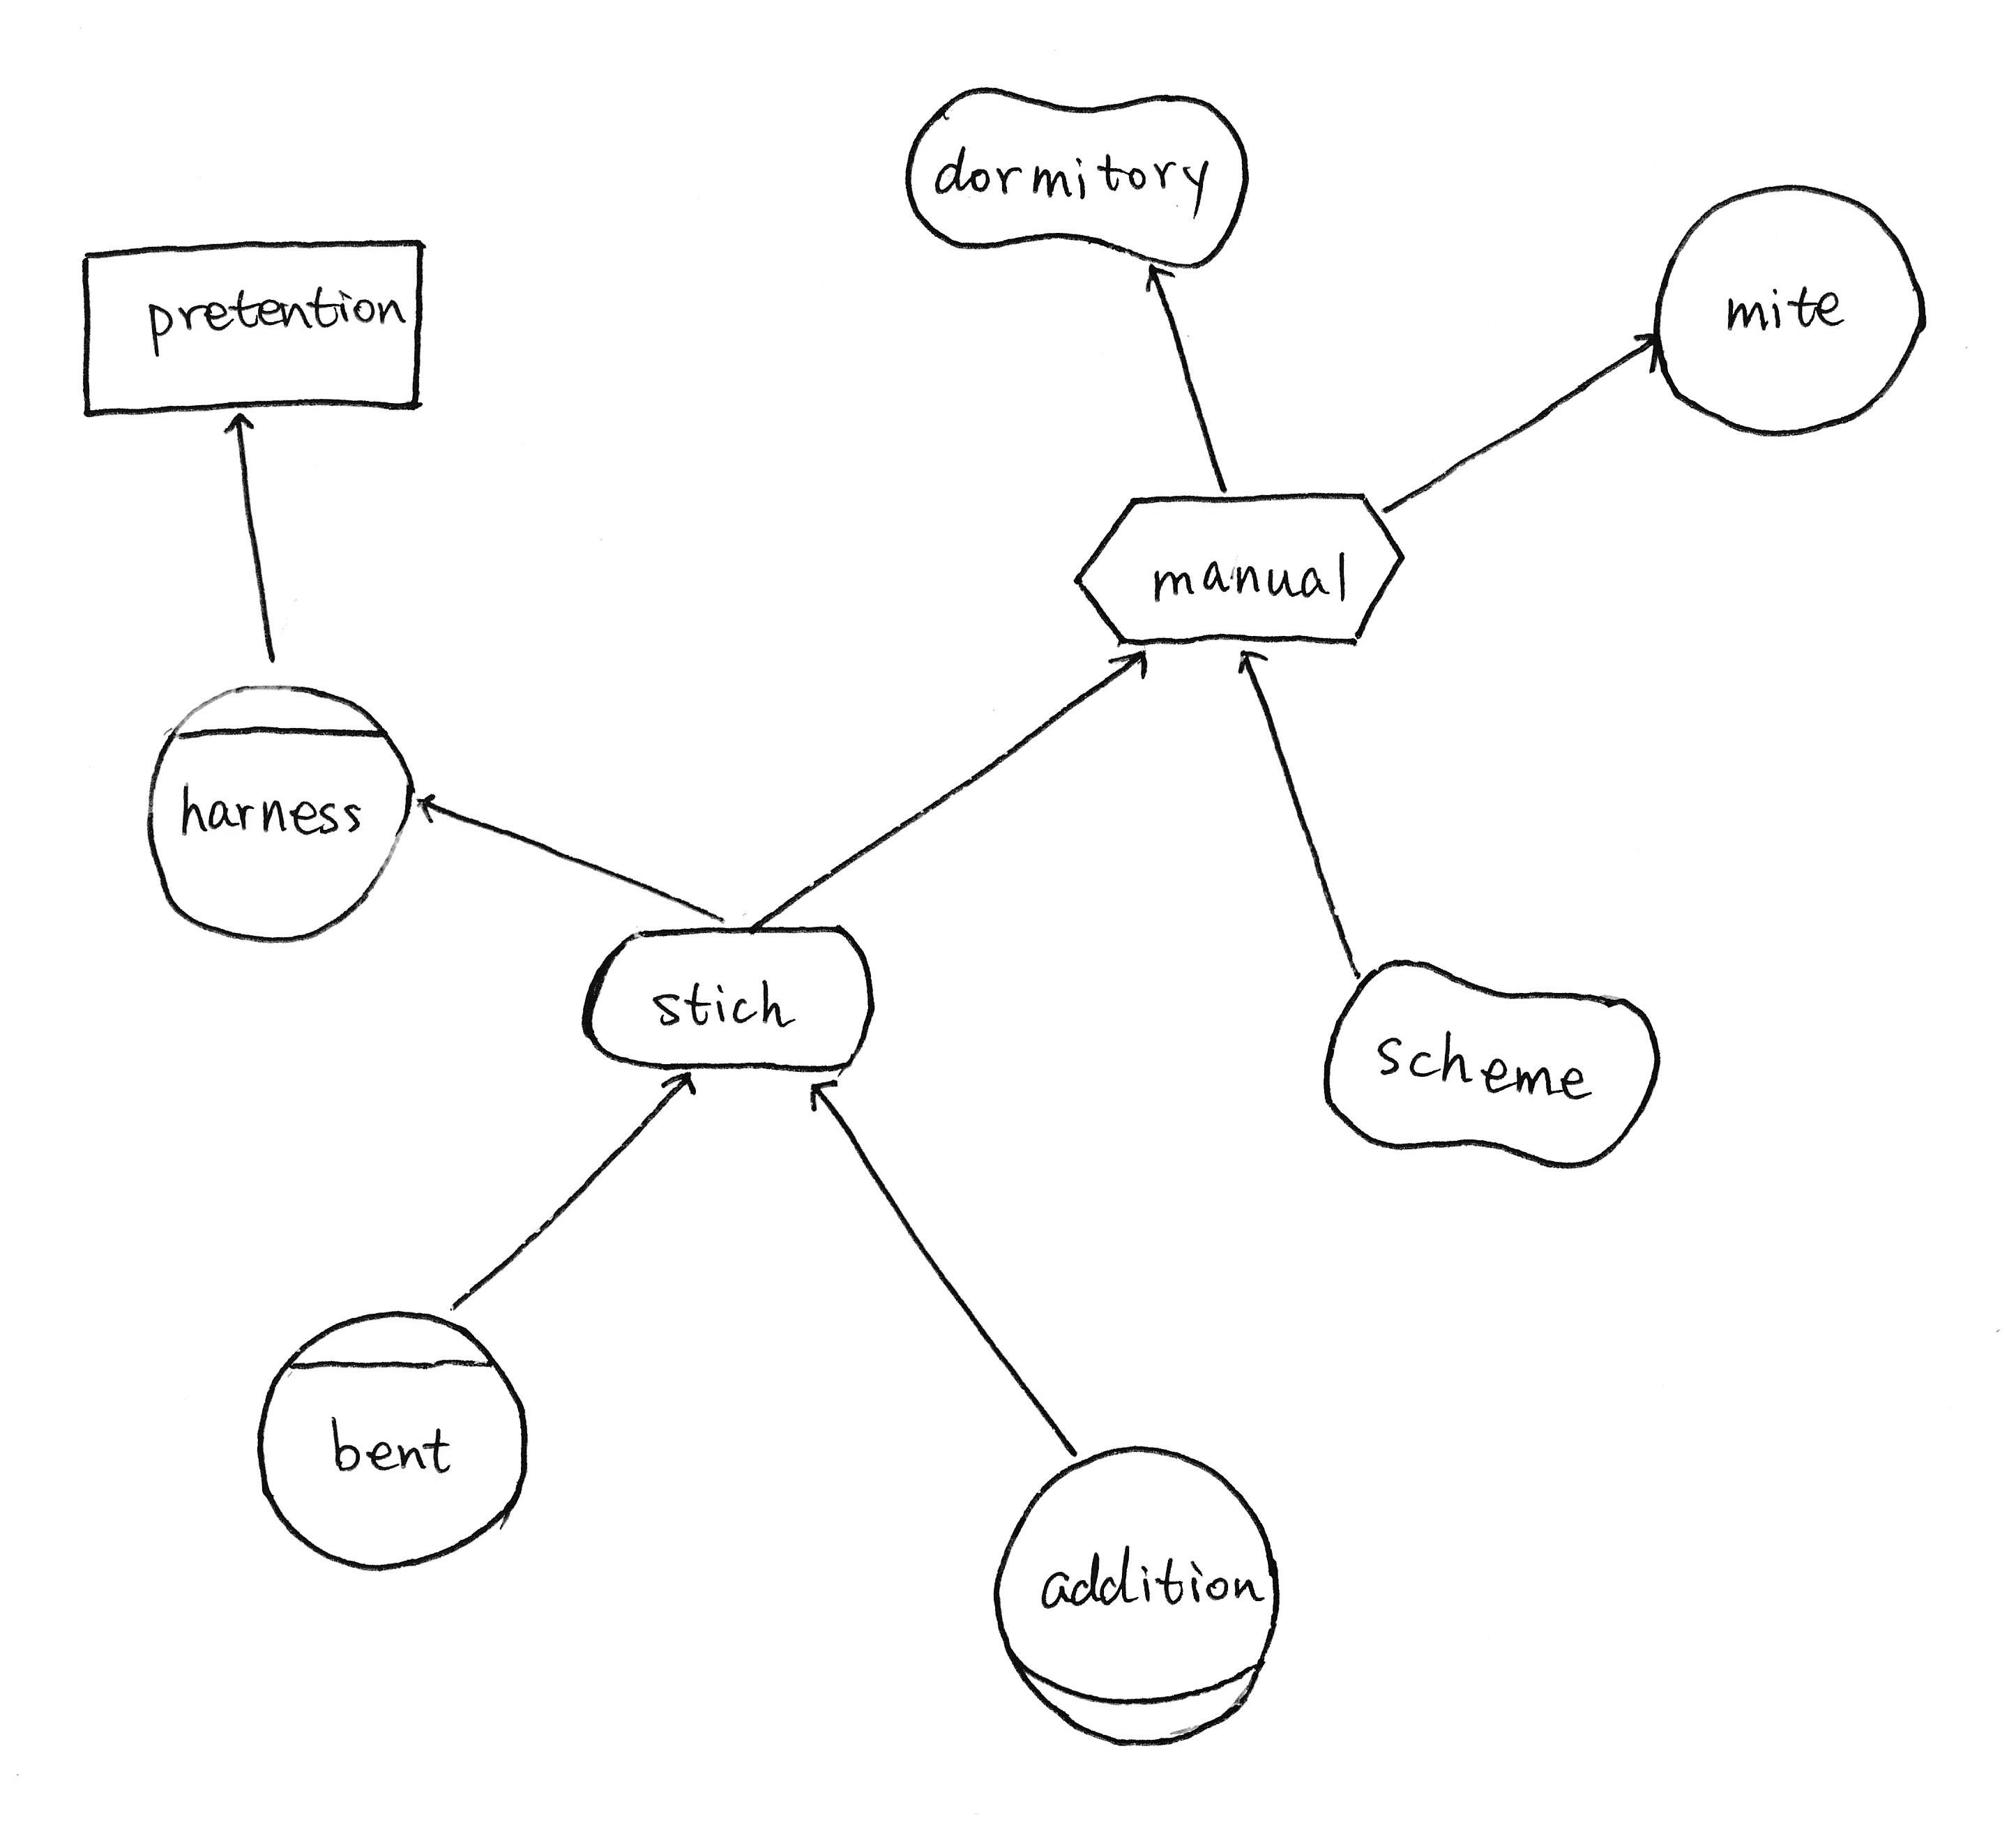actor: (1642, 170, 1942, 451)
agent: (235, 1291, 544, 1588), (121, 664, 427, 952)
arrow: (200, 393, 295, 464), (397, 776, 464, 859), (1624, 297, 1684, 388), (787, 1061, 878, 1119), (1127, 244, 1203, 311), (641, 1052, 715, 1115), (1094, 627, 1168, 687), (1220, 629, 1294, 683)
goal: (565, 903, 897, 1096)
quality: (1305, 942, 1681, 1180), (887, 67, 1271, 286)
resource: (53, 214, 441, 439)
role: (976, 1428, 1294, 1765)
task: (1059, 474, 1426, 668)
